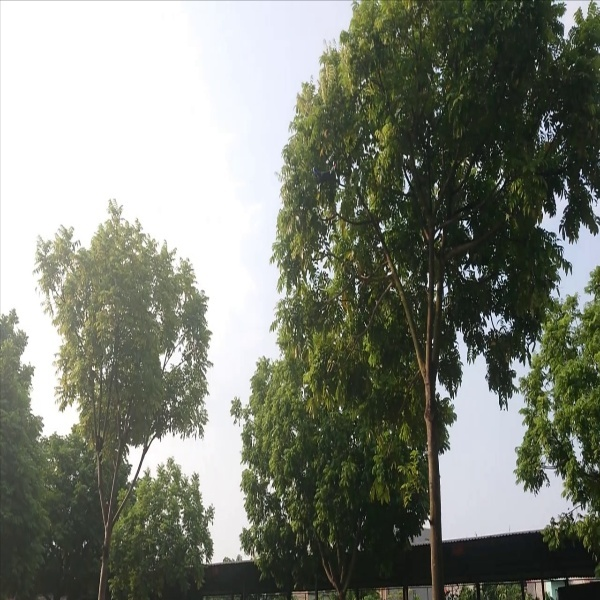drone: (309, 158, 340, 189)
